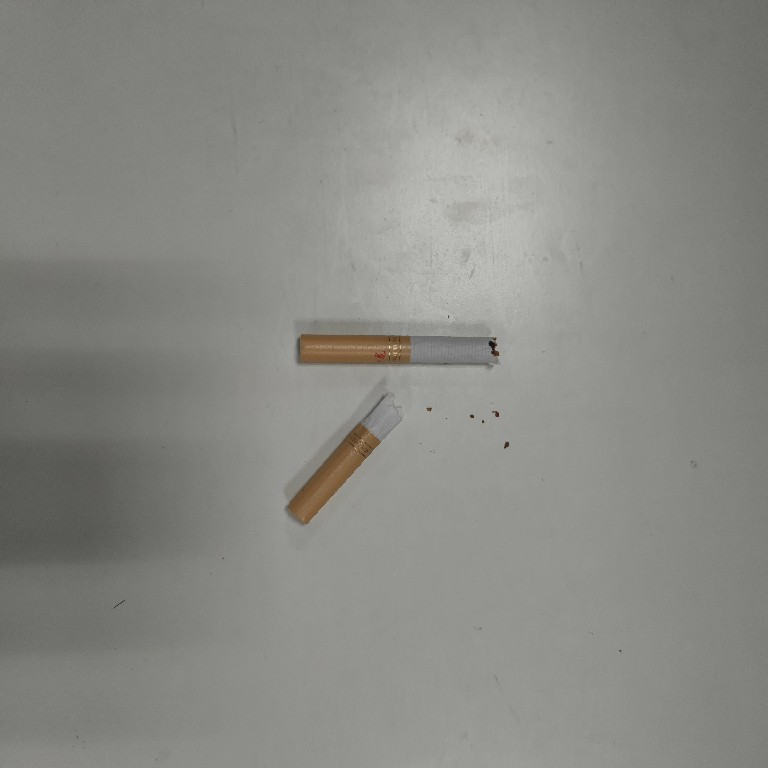cigarette: (283, 389, 410, 526), (293, 332, 506, 370)
